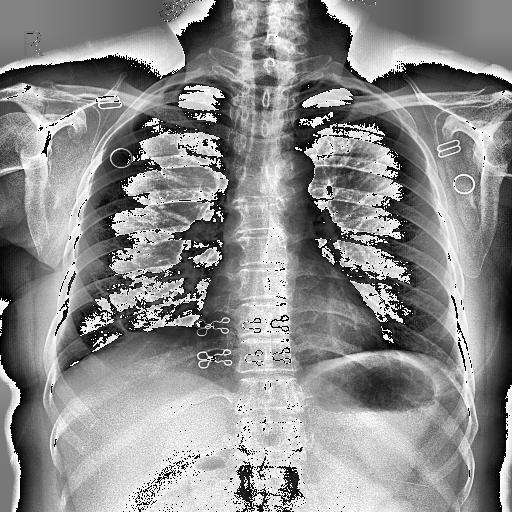0- Aortic enlargement: (269, 149, 315, 190)
10- Pleural effusion: (46, 357, 69, 385)
11- Pleural thickening: (46, 357, 69, 385)
13- Pulmonary fibrosis: (87, 277, 130, 335), (93, 282, 131, 336), (94, 280, 129, 334)
